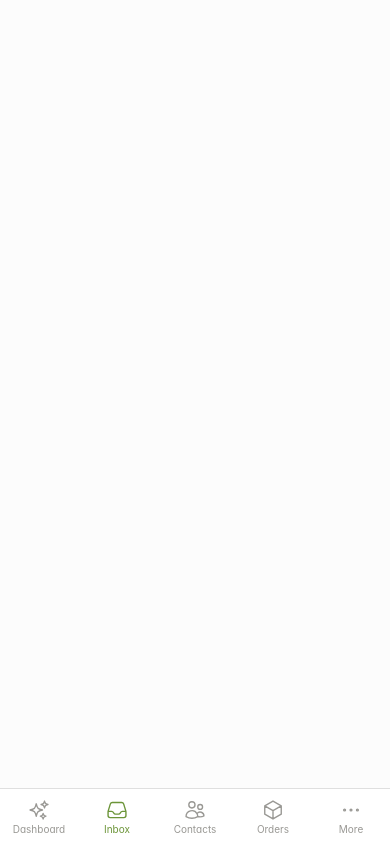
Scenario: BottomNav › opens More sheet on click
Click the button "More" at (351, 816), box [312,789,389,843]
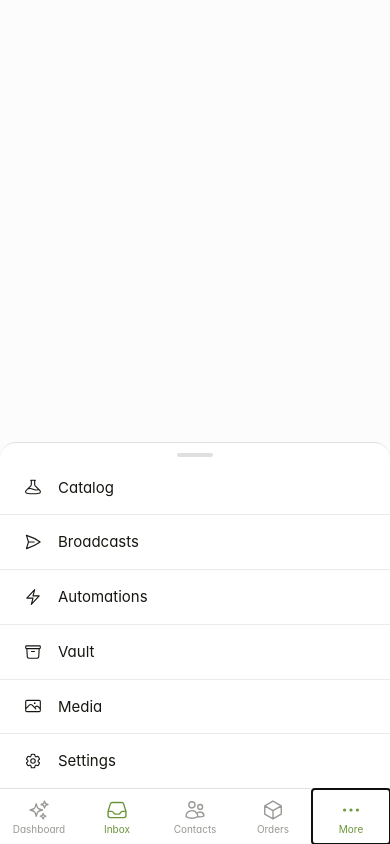
expect the text "Catalog" is shown: met, box [58,476,114,498]
expect the text "Settings" is shown: met, box [58,750,116,772]
